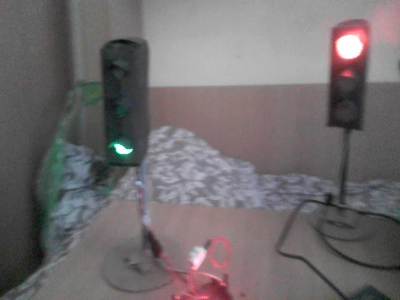trafficlight_green: (103, 43, 144, 164)
trafficlight_red: (329, 24, 369, 125)
